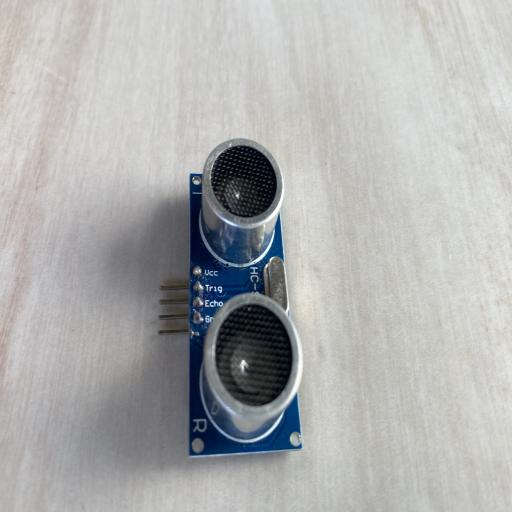Ultrasonic Sensor: (157, 136, 303, 458)
